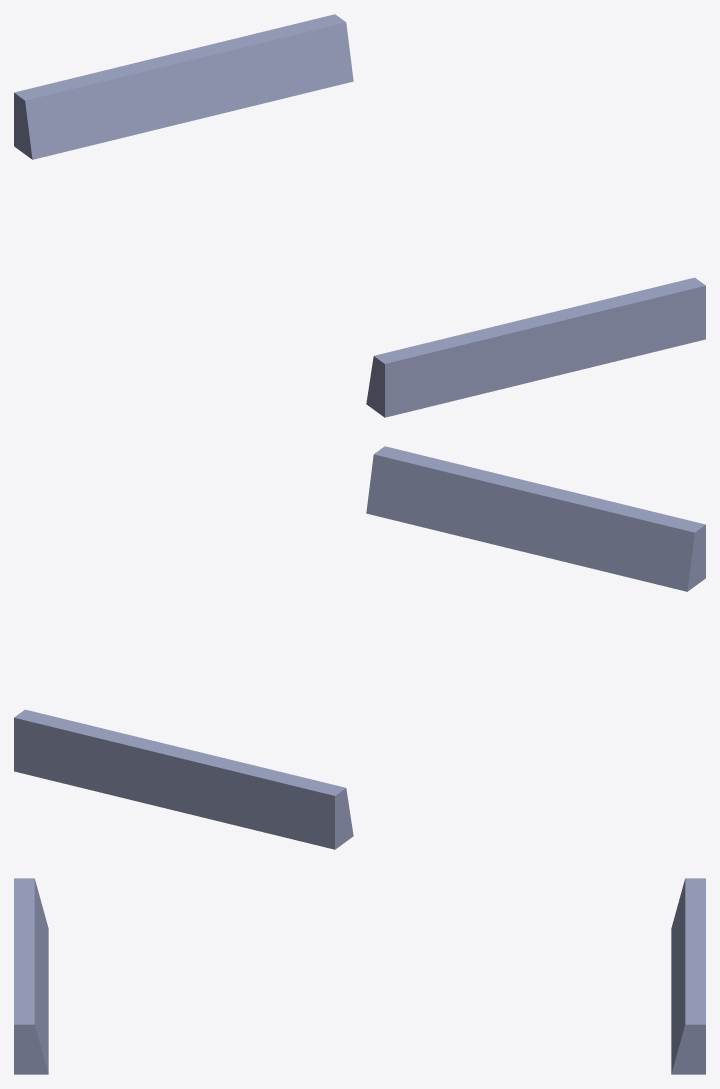
The model's file is road-straight-barrier-half.glb.
3 views of the same model, one above another, from view 1: azimuth 30°, elevation 25°; view 2: azimuth 150°, elevation 25°; view 3: azimuth 270°, elevation 25° (orthographic). The views are drawn at different scales.
Visible parts, largest first — view 1: road-straight-barrier-half; view 2: road-straight-barrier-half; view 3: road-straight-barrier-half.
Boxes of the visible parts, <box> form: road-straight-barrier-half: <box>14,14,705,417</box>; road-straight-barrier-half: <box>14,446,705,849</box>; road-straight-barrier-half: <box>14,878,705,1074</box>.
Size of the model in its own units: 0.5 by 0.08 by 1.
